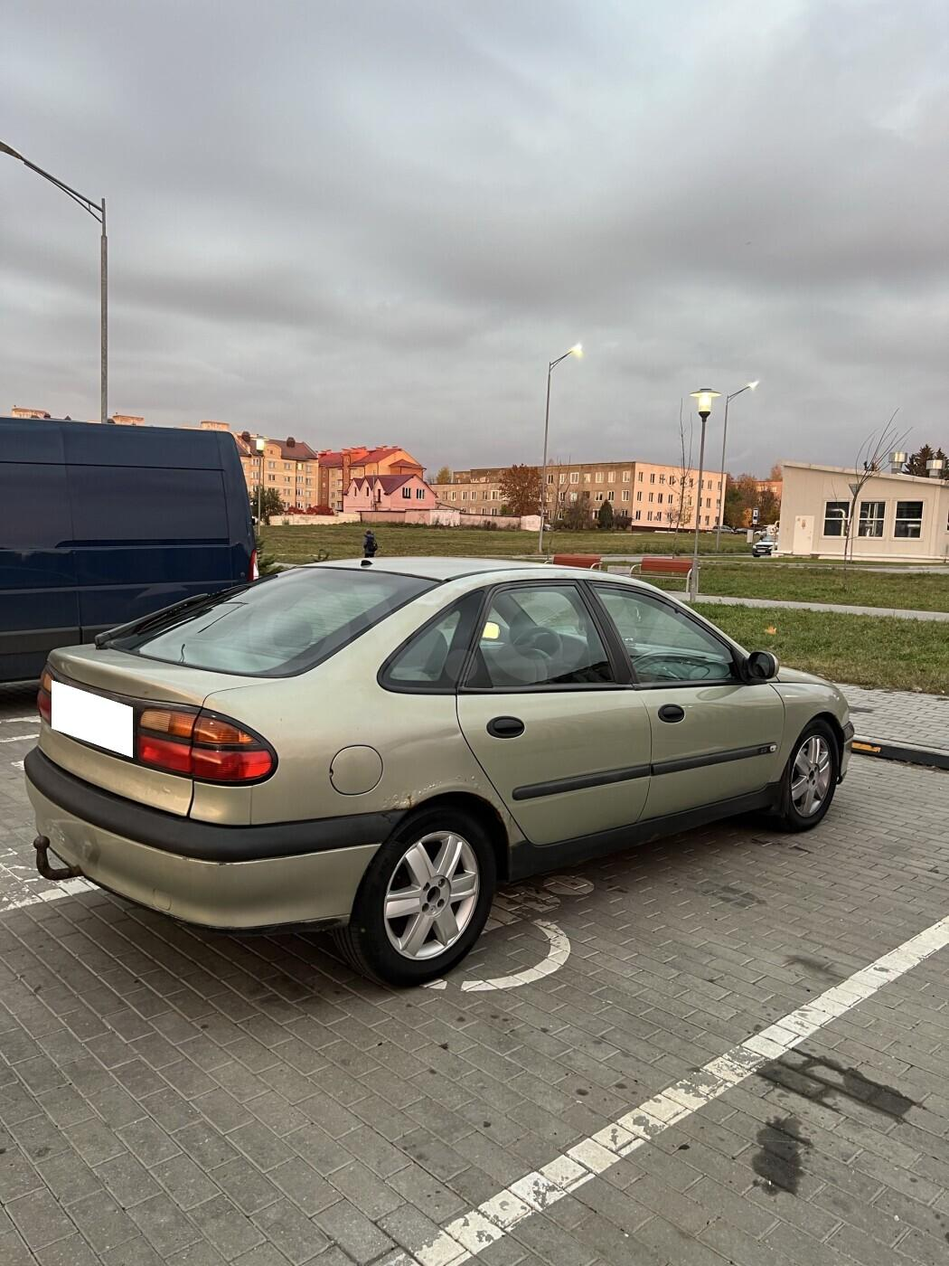Laguna_1998-2001: (20, 548, 860, 973)
